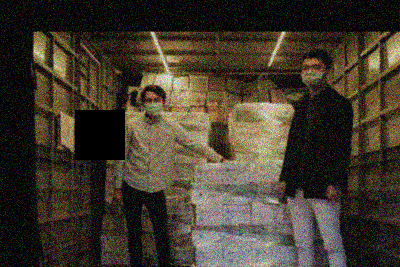with_mask: (301, 63, 328, 89), (142, 95, 163, 117)
